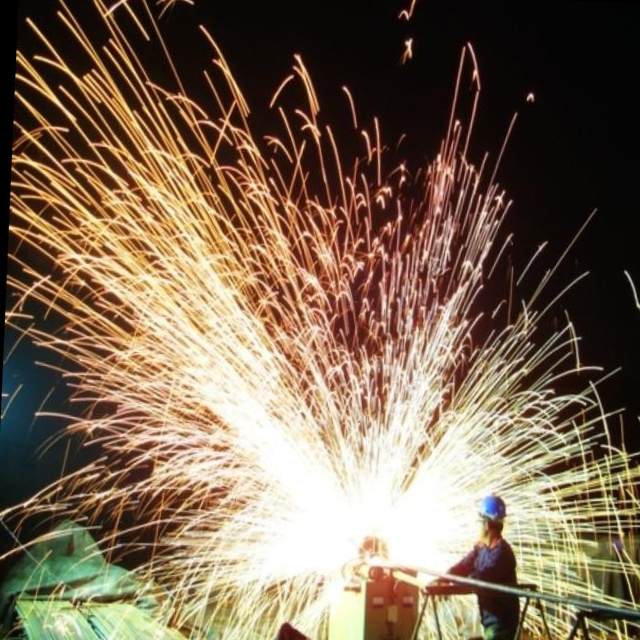Con_Casco: (476, 493, 506, 539)
